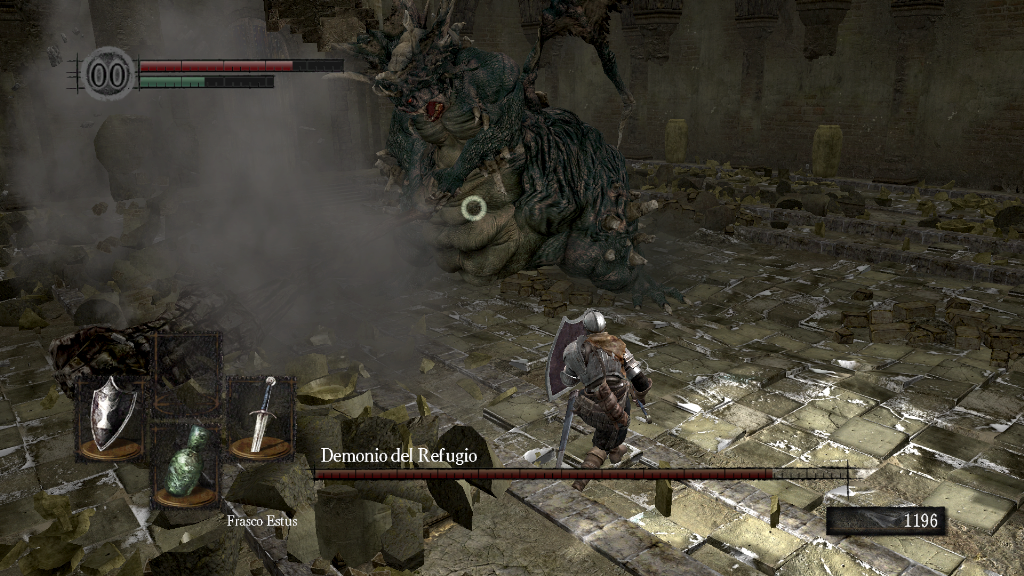asylumDemon: (260, 4, 667, 299)
bossHP: (314, 469, 847, 479)
health: (138, 58, 343, 71)
humanity: (80, 45, 136, 102)
player: (546, 307, 654, 491)
souls: (825, 506, 945, 536)
stamina: (138, 74, 274, 88)
